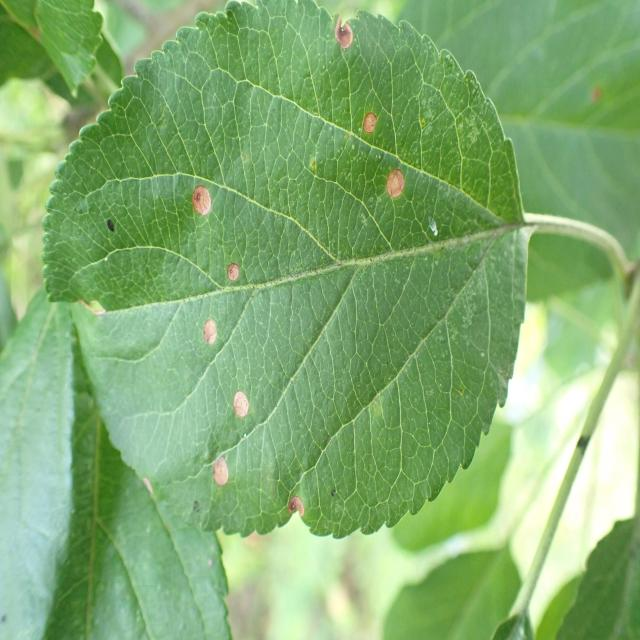Black Rot: (178, 162, 231, 237), (185, 312, 233, 357), (204, 434, 234, 501), (330, 0, 360, 63), (278, 491, 316, 529), (228, 377, 253, 428), (354, 104, 384, 142), (383, 162, 407, 206), (227, 250, 244, 286)
scab: (196, 198, 564, 316)
